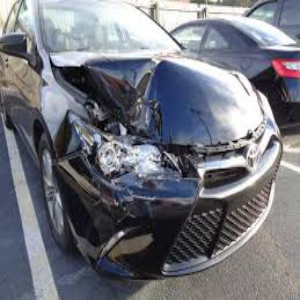bonnet: (75, 49, 255, 135)
head_lights: (90, 138, 165, 183)
